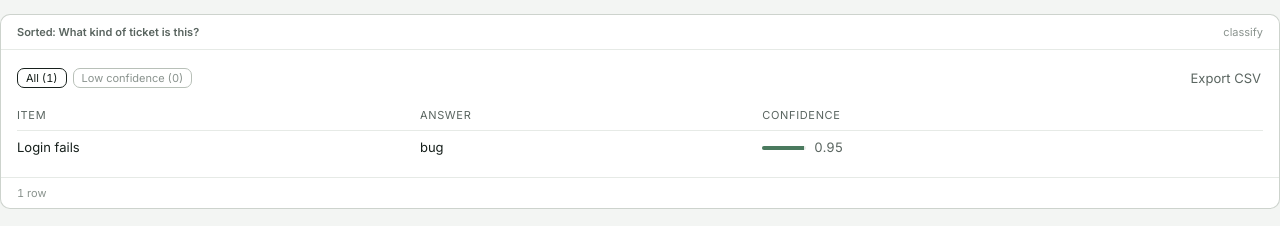
Test: the classify table › says so when no row is low confidence
Click the button "Low confidence (0)".
click(132, 78)  # box 73,68 -> 192,88
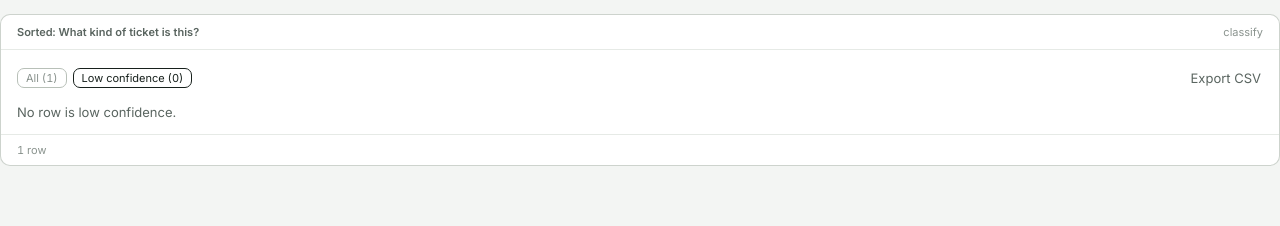
Now the text "No row is low confidence." is shown, box 17,104 -> 176,120
